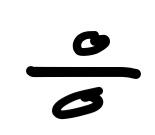div: (27, 29, 137, 119)
